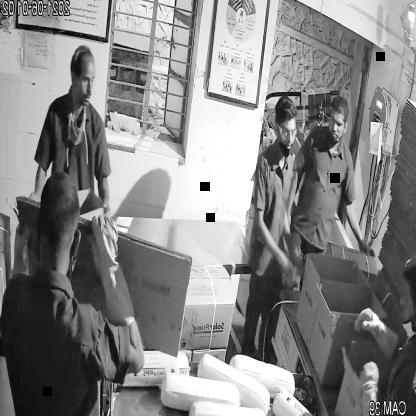goggles: (275, 121, 298, 141)
no_goggles: (71, 70, 100, 91), (324, 116, 350, 136)
